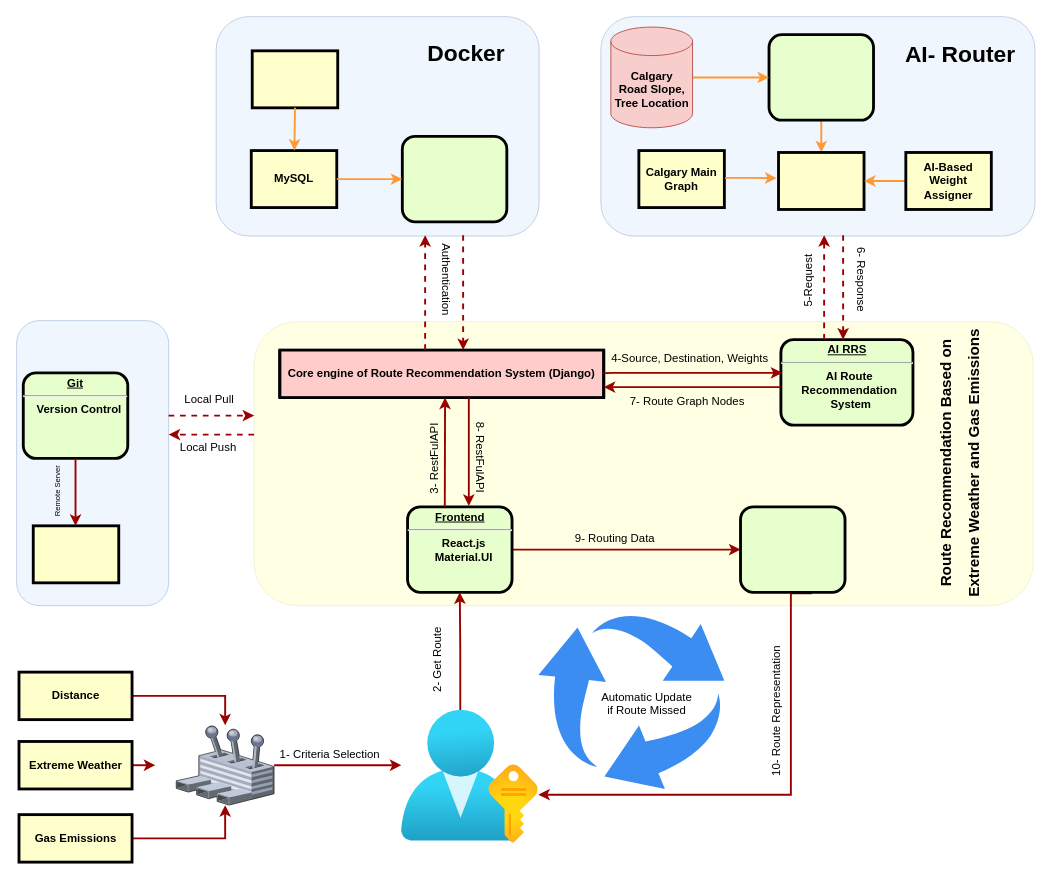
The diagram is 1052 pixels wide and 880 high, and some of its shapes have lost their labels. The centre of each missing label's shape, as x and y in pixels:
"Database Data Tables" belongs at [454,178].
"Dijkstra" belongs at [821,180].
"GitHub Rep" belongs at [75,554].
"Map Modules Backend OSMNX Networkx" belongs at [820,77].
"Map Modules Frontend Leaflet.js" belongs at [792,549].
"PHPMyadmin" belongs at [294,79].
